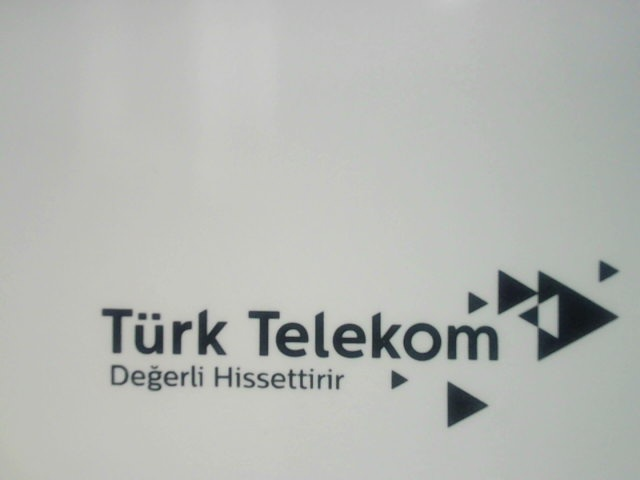AQ_TURKTelekom: (97, 252, 621, 429)
